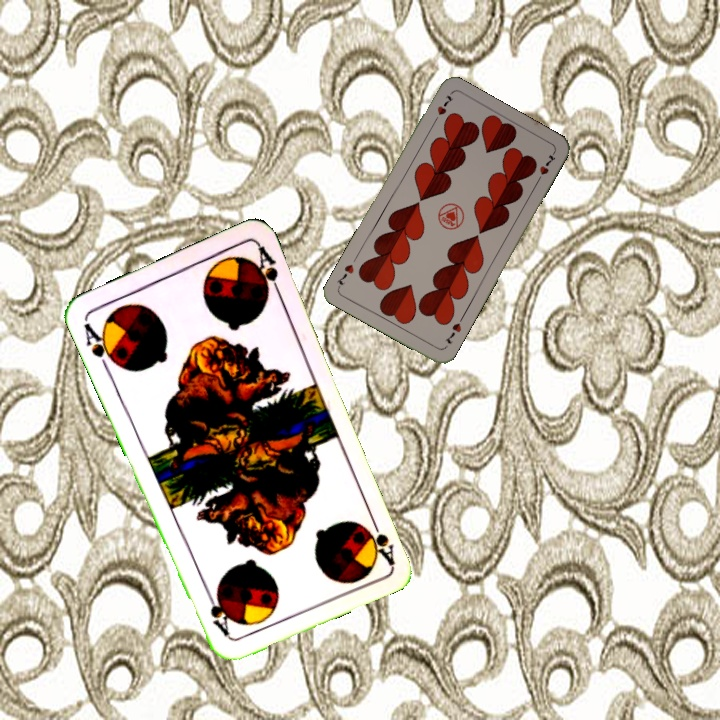H7: (428, 90, 456, 127), (441, 319, 464, 346)
SA: (79, 319, 122, 374), (365, 509, 397, 566)
